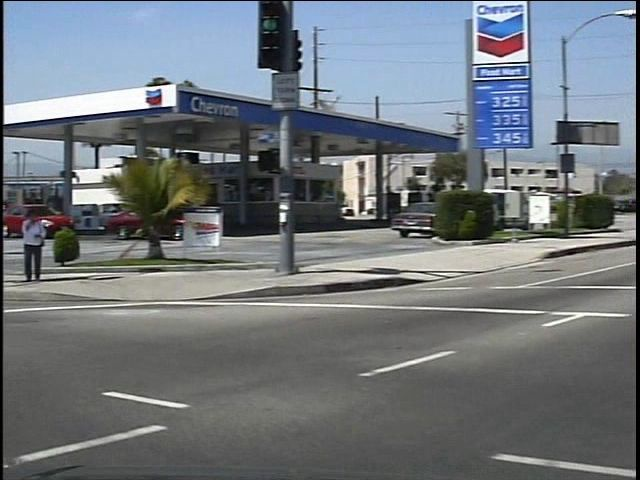person: (14, 203, 45, 288)
